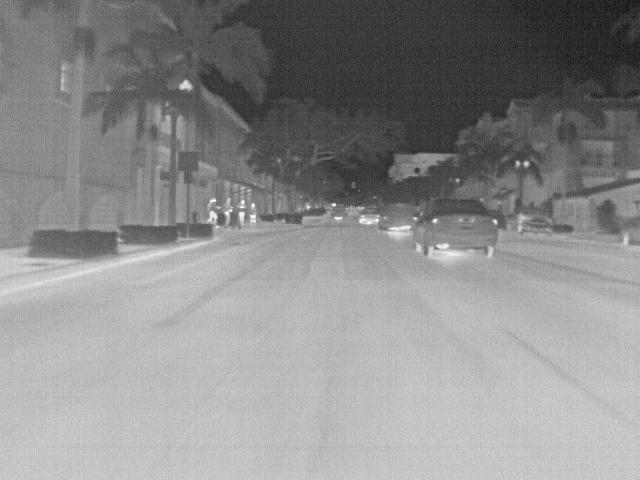car: (412, 197, 497, 256), (377, 204, 421, 236), (514, 207, 552, 234), (618, 218, 640, 248), (488, 209, 510, 229), (359, 208, 380, 227), (330, 206, 348, 222)
person: (208, 196, 221, 224), (236, 196, 248, 225), (224, 198, 234, 225), (249, 199, 259, 225)
